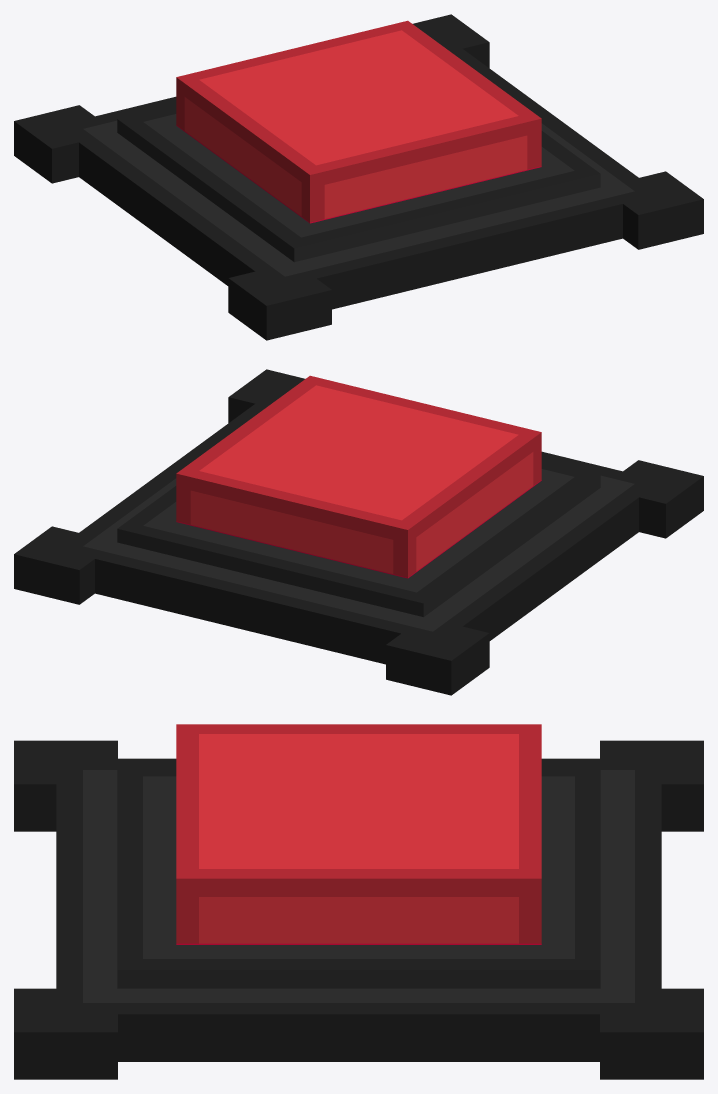
File: Button 1.fbx
3 renders of one model, top to bottom at view 1: azimuth 30°, elevation 25°; view 2: azimuth 150°, elevation 25°; view 3: azimuth 270°, elevation 25°, orthographic. The views are drawn at different scales.
Visible parts, largest first — view 1: Cube, Cube.001; view 2: Cube, Cube.001; view 3: Cube, Cube.001.
Boxes of the visible parts, x1,y1,x2,y2 form: Cube: [14, 14, 703, 340]; Cube.001: [176, 20, 541, 223]; Cube: [14, 369, 703, 695]; Cube.001: [176, 375, 541, 578]; Cube: [14, 740, 703, 1079]; Cube.001: [176, 724, 541, 944].
Bounding box in the file's own units: 189 × 40 × 189.
